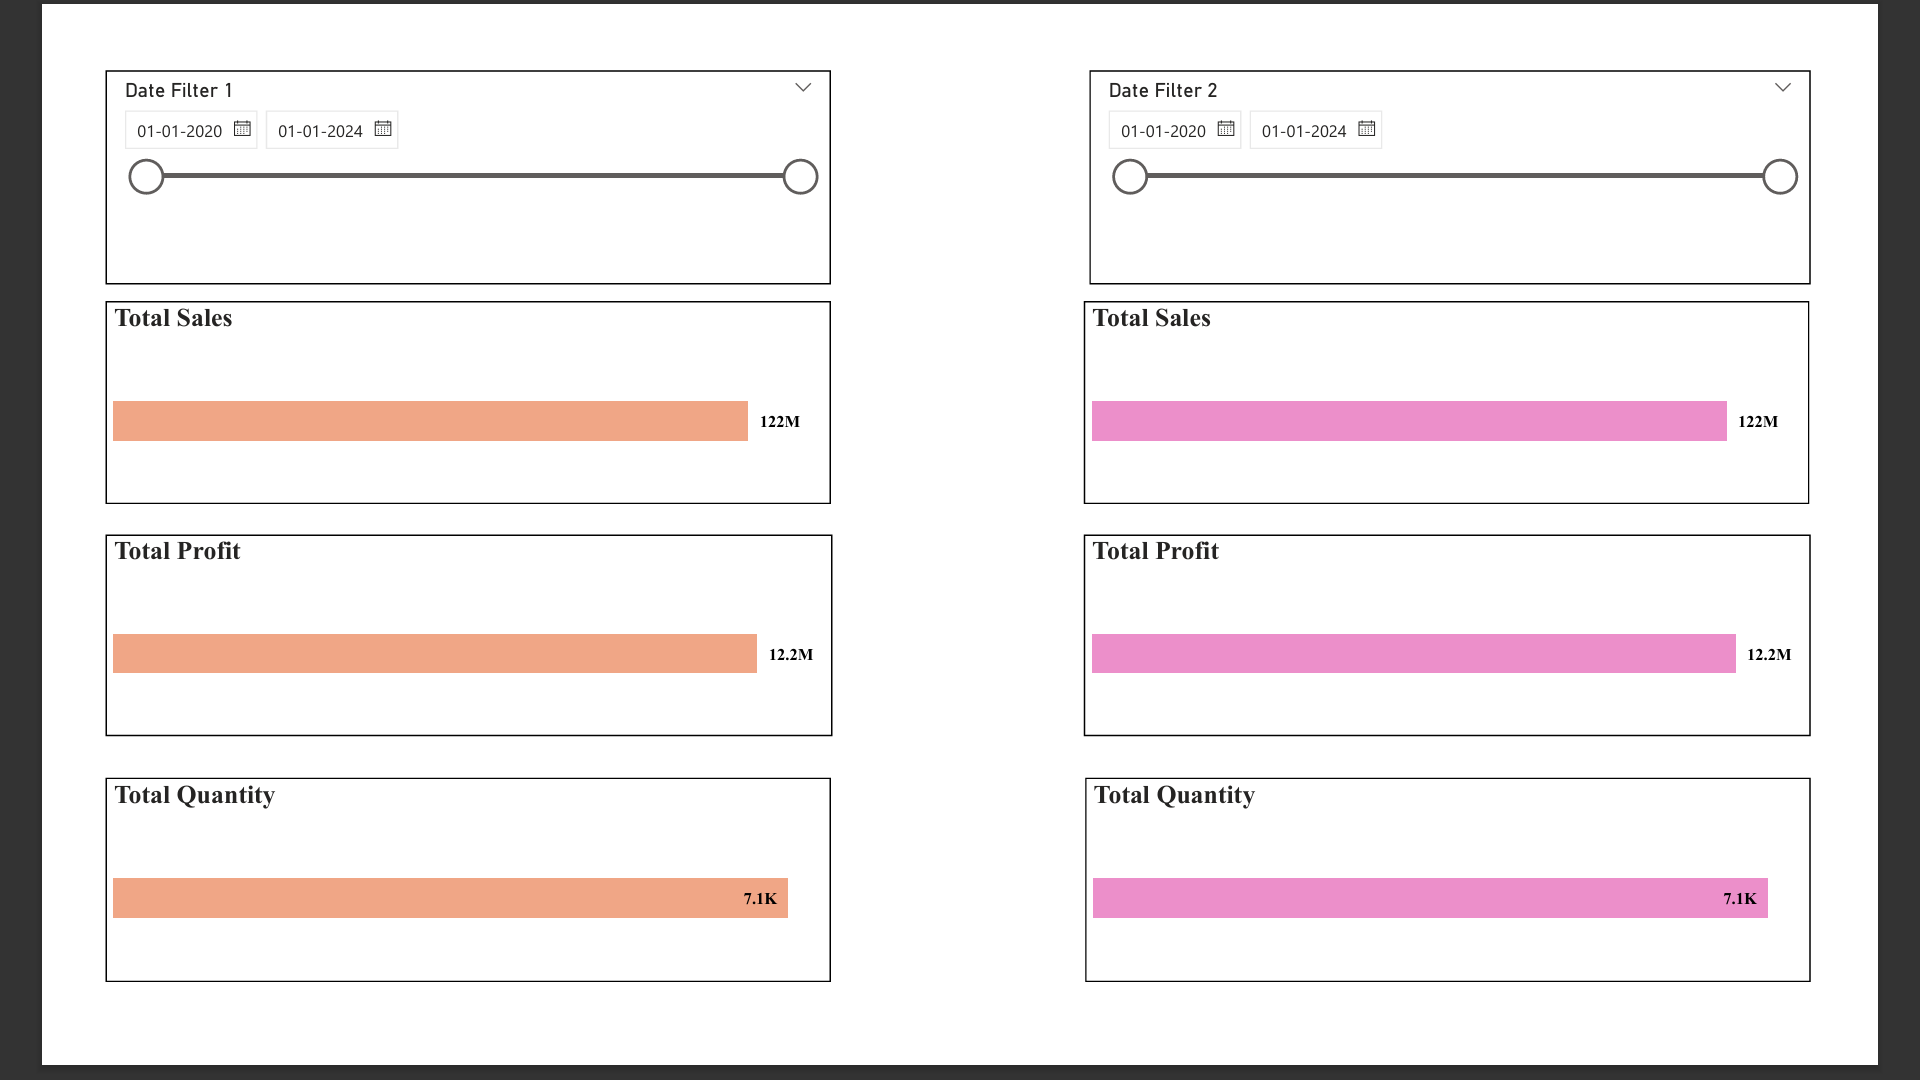

The page's visual inventory and layout, read from the dashboard file:
{"tool":"powerbi","page":{"name":"Edit Interactions","canvas":[1280,720],"ordinal":3},"visuals":[{"type":"slicer","fields":{"Values":["Fact Table.Date (dd/mm/yyyy)"]},"box":[22,24.5,524.6,154.1],"z":0},{"type":"slicer","fields":{"Values":["Fact Table.Date (dd/mm/yyyy)"]},"box":[733.7,24.5,522.1,154.1],"z":1000},{"type":"barChart","title":"Total Profit","fields":{"Y":["Sum(Fact Table.Profit)"]},"box":[22,359.5,525.8,146.7],"z":2000},{"type":"barChart","title":"Total Quantity","fields":{"Y":["Sum(Fact Table.Units Sold)"]},"box":[22,535.6,524.6,148],"z":3000},{"type":"barChart","title":"Total Sales","fields":{"Y":["Sum(Fact Table.Net Sales)"]},"box":[22,190.8,524.6,146.7],"z":4000},{"type":"barChart","title":"Total Profit","fields":{"Y":["Sum(Fact Table.Profit)"]},"box":[730,359.5,525.8,146.7],"z":5000},{"type":"barChart","title":"Total Quantity","fields":{"Y":["Sum(Fact Table.Units Sold)"]},"box":[731.3,535.6,524.6,148],"z":6000},{"type":"barChart","title":"Total Sales","fields":{"Y":["Sum(Fact Table.Net Sales)"]},"box":[730,190.8,524.6,146.7],"z":7000}]}

Visuals, with their boxes in screenshot pixels (x1, y1, x2, y2), scaled from the page's 1280x720 canvas onto the 1920x1080 screenshot:
slicer - Fact Table.Date (dd/mm/yyyy): (33, 37, 820, 268)
slicer - Fact Table.Date (dd/mm/yyyy): (1101, 37, 1884, 268)
"Total Profit" barChart: (33, 539, 822, 759)
"Total Quantity" barChart: (33, 803, 820, 1025)
"Total Sales" barChart: (33, 286, 820, 506)
"Total Profit" barChart: (1095, 539, 1884, 759)
"Total Quantity" barChart: (1097, 803, 1884, 1025)
"Total Sales" barChart: (1095, 286, 1882, 506)
